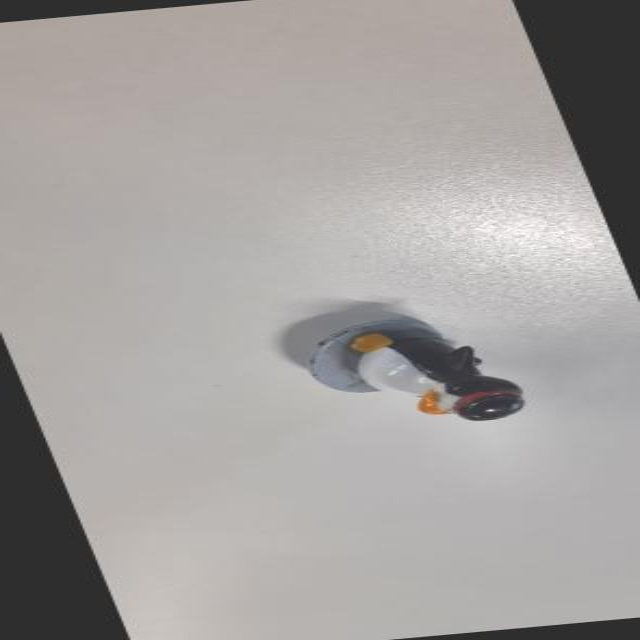Penguin: (263, 303, 540, 436)
